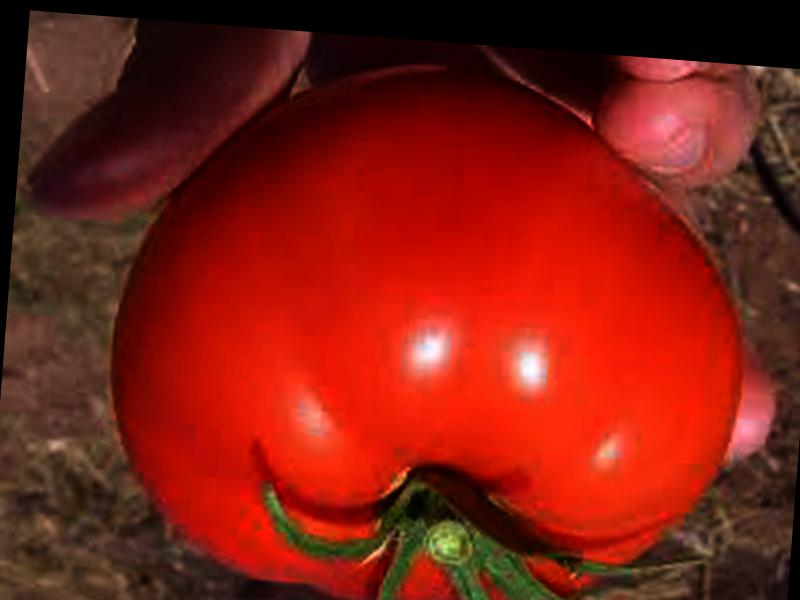Tomato: (104, 49, 761, 600)
